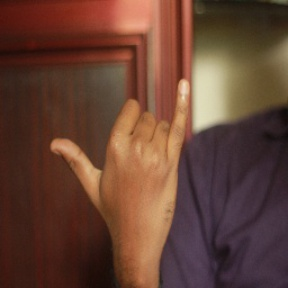J: (49, 69, 191, 241)
